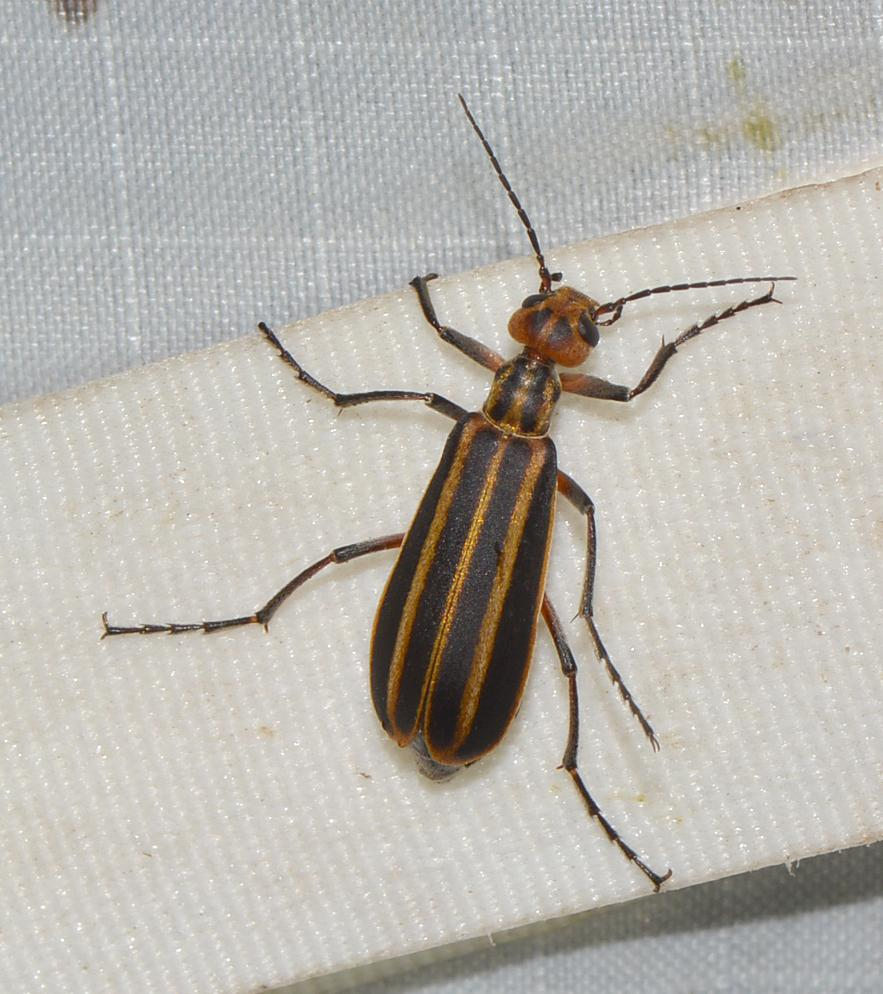blister_beetle: (64, 10, 883, 932)
